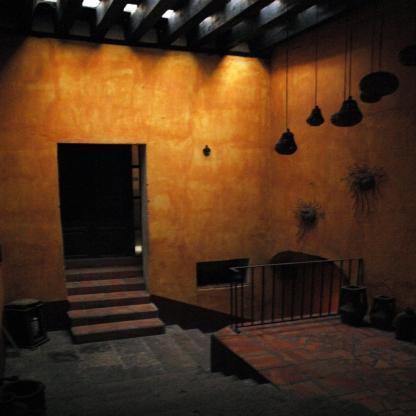door: (52, 136, 155, 281)
stair: (59, 260, 167, 348)
